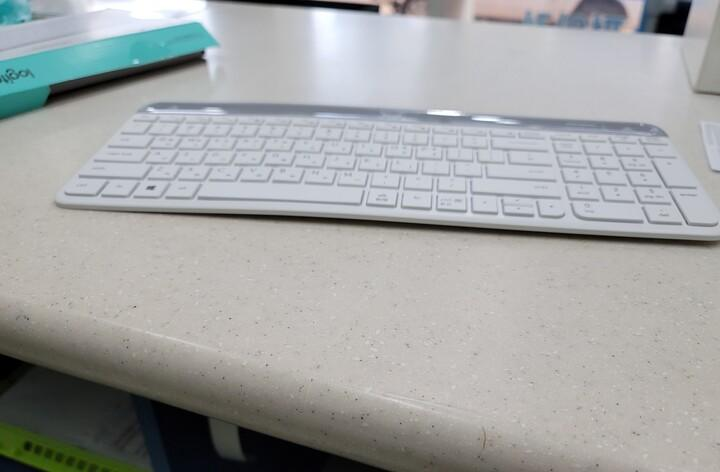keyboard: (53, 100, 719, 242)
